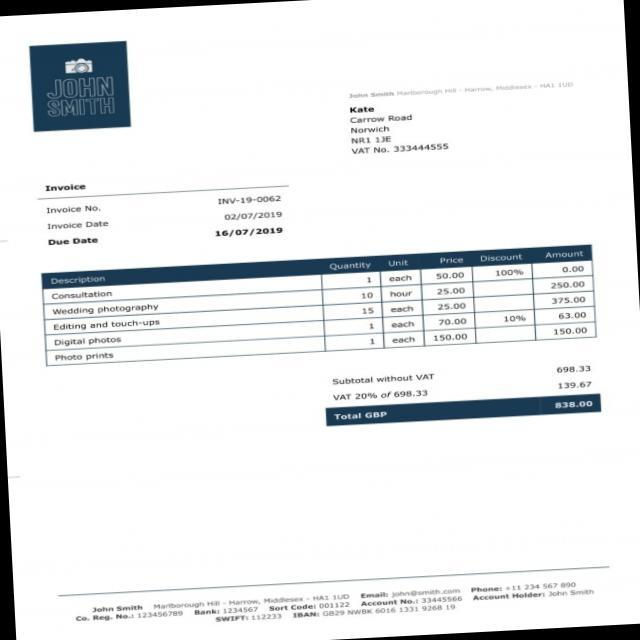customer_address: (348, 114, 419, 135)
customer_name: (348, 102, 378, 114)
due_date: (210, 224, 286, 240)
invoice_date: (218, 207, 285, 223)
invoice_number: (213, 186, 284, 207)
invoice_subtotal: (551, 360, 597, 375)
invoice_total: (542, 395, 602, 412), (545, 324, 598, 339)
item_description: (43, 287, 172, 367)
item_quantity: (346, 274, 378, 347)
item_total_price: (544, 262, 597, 338)
item_unit_price: (427, 268, 470, 342)
supplier_name: (42, 72, 124, 122)
tax_amount: (554, 376, 597, 393)
